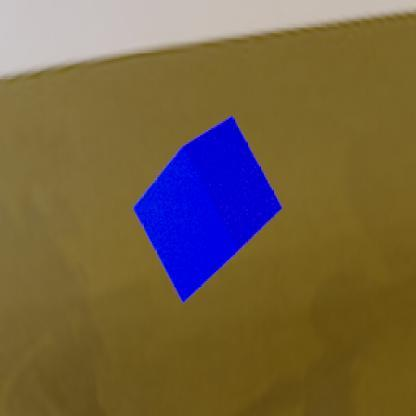cube: (132, 114, 282, 302)
